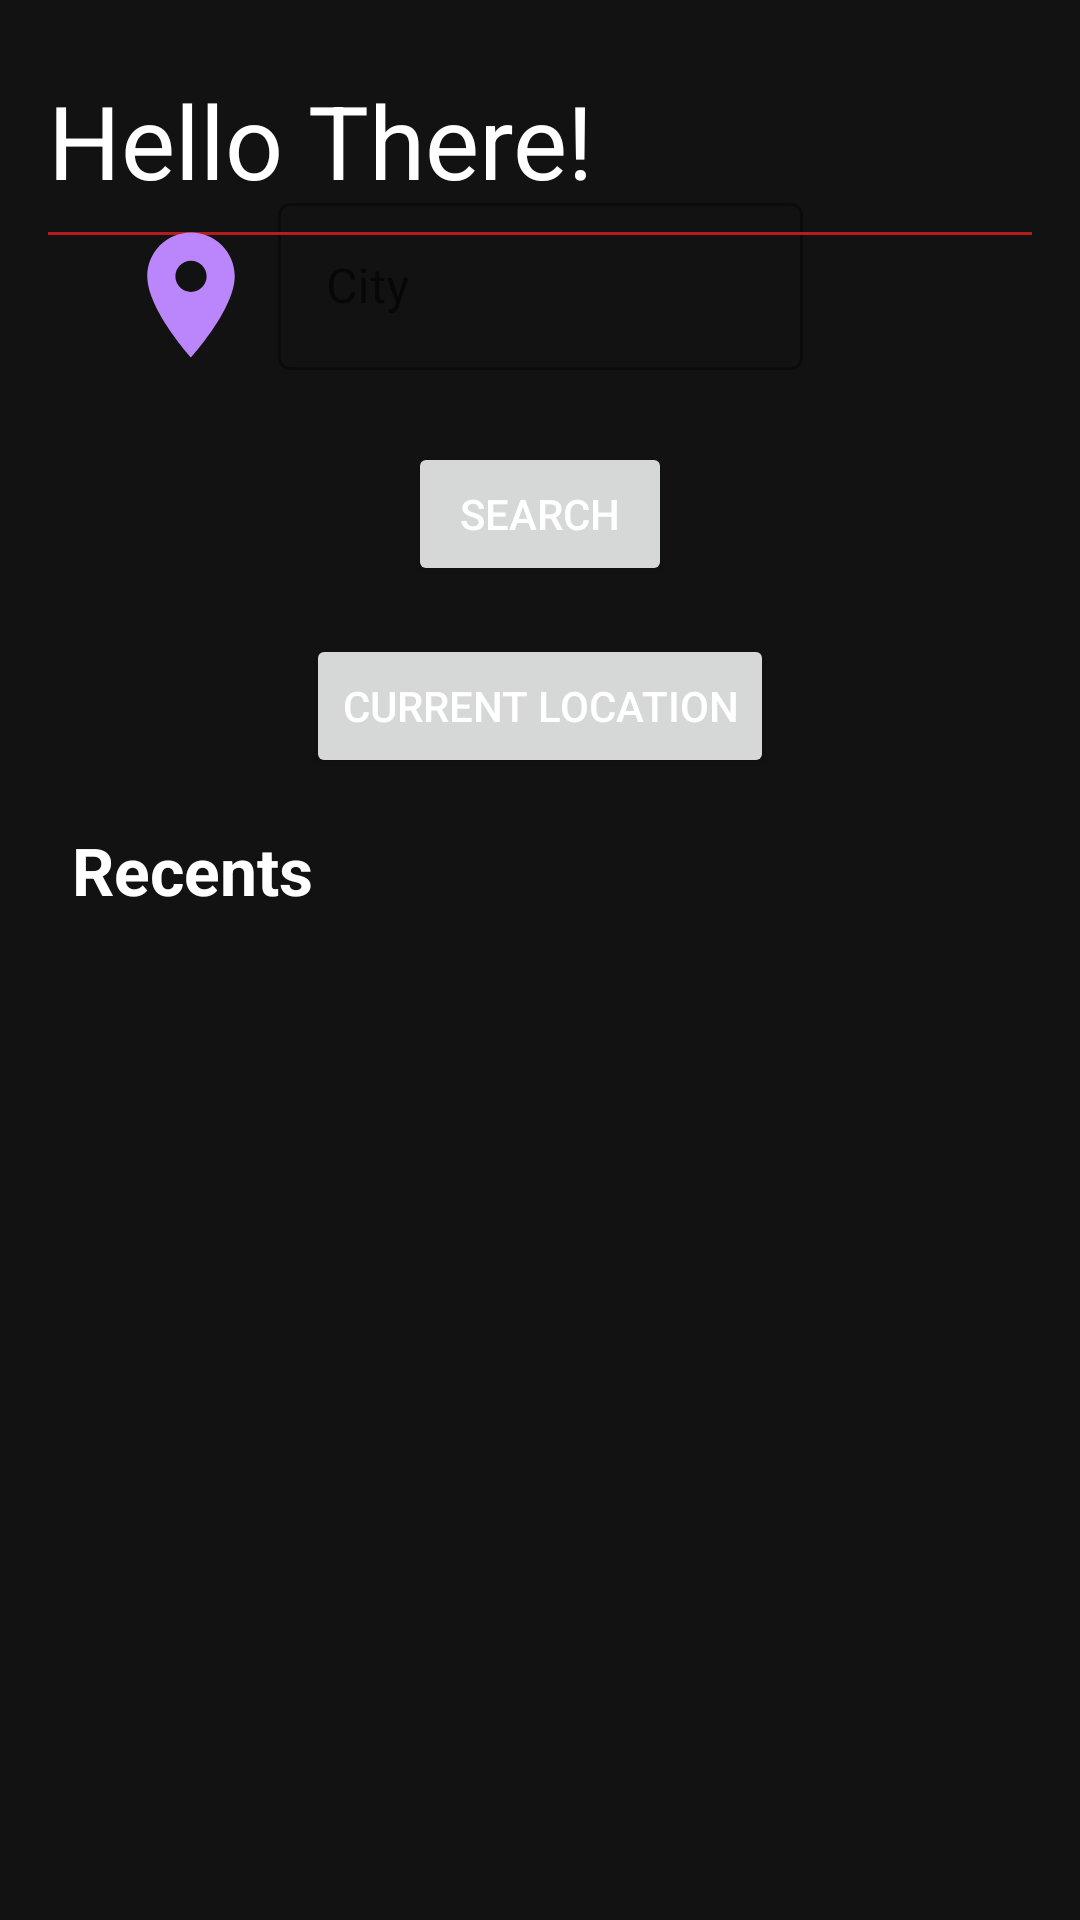

Icons on this 1080 × 1920 Android screen, each with the point to tap as (x=x, y=y):
location on: (x=191, y=295)
